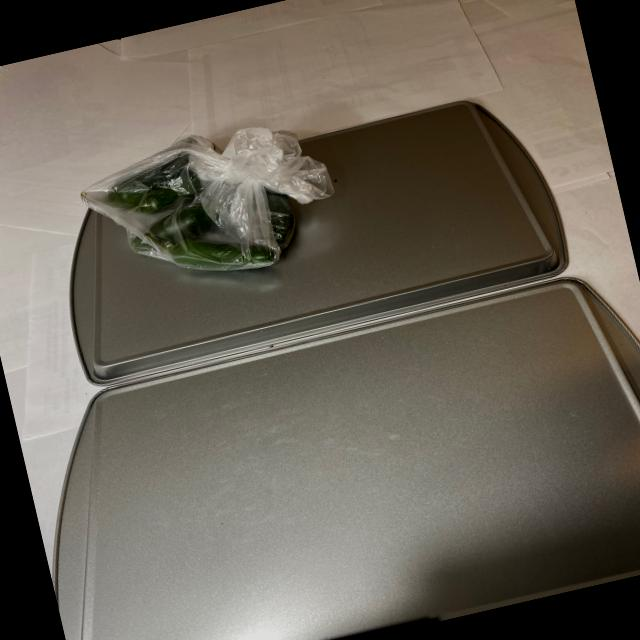chilli: (71, 121, 302, 303)
